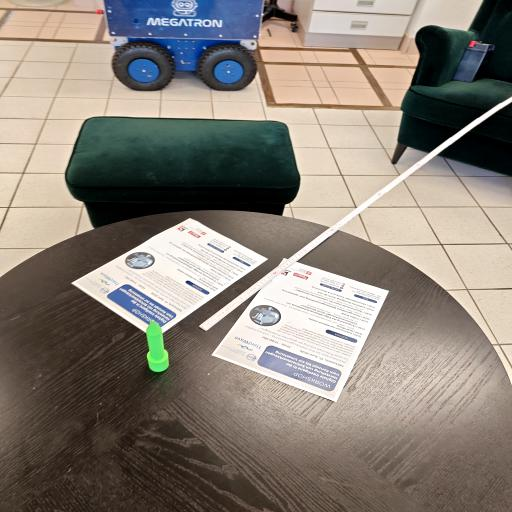Probe-Detection: (145, 320, 170, 372)
